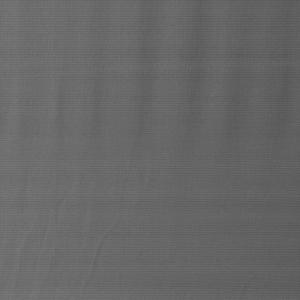Wrinkle: (1, 1, 300, 166)
